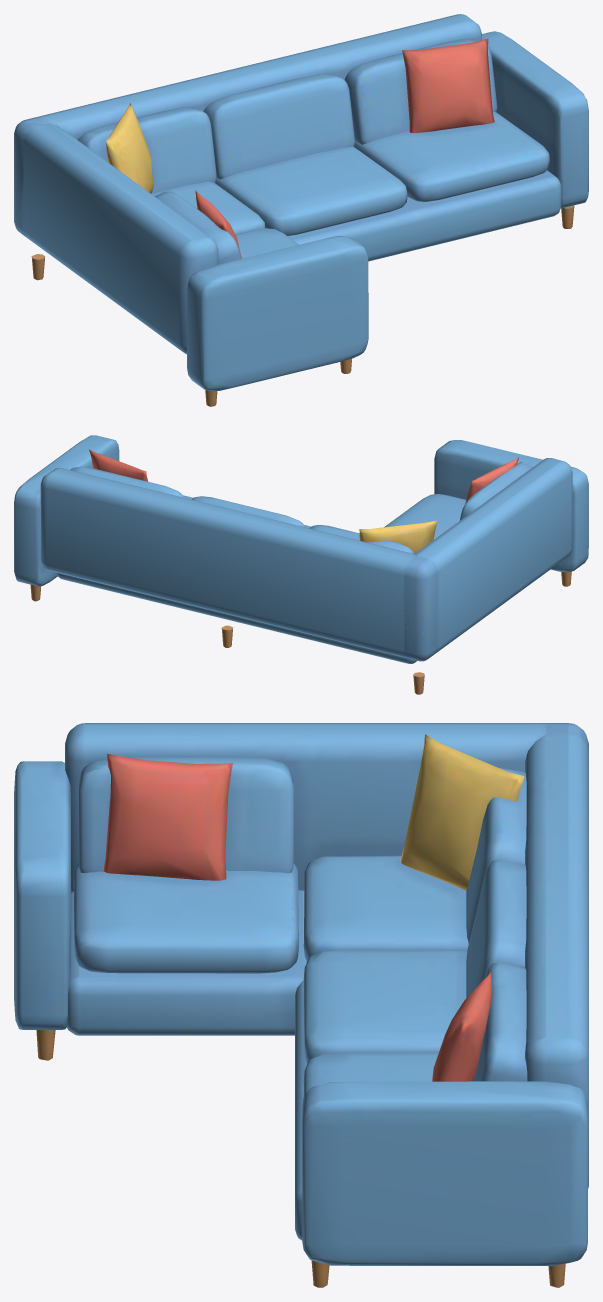
The model's file is corner-sofa.glb.
The picture shows the model from 3 angles, top to bottom: view 1: azimuth 30°, elevation 25°; view 2: azimuth 150°, elevation 25°; view 3: azimuth 270°, elevation 25°; orthographic projection. The views are drawn at different scales.
Parts seen in each view (by area): view 1: corner-sofa_body; view 2: corner-sofa_body; view 3: corner-sofa_body.
Part boxes in pixels (left/top/right/bottom): corner-sofa_body: left=14, top=14, right=588, bottom=406; corner-sofa_body: left=14, top=435, right=588, bottom=694; corner-sofa_body: left=14, top=723, right=588, bottom=1287.
Bounding box in the file's own units: 2.6 × 0.8415 × 1.8.
Materials: 1 (1 with a texture image).
